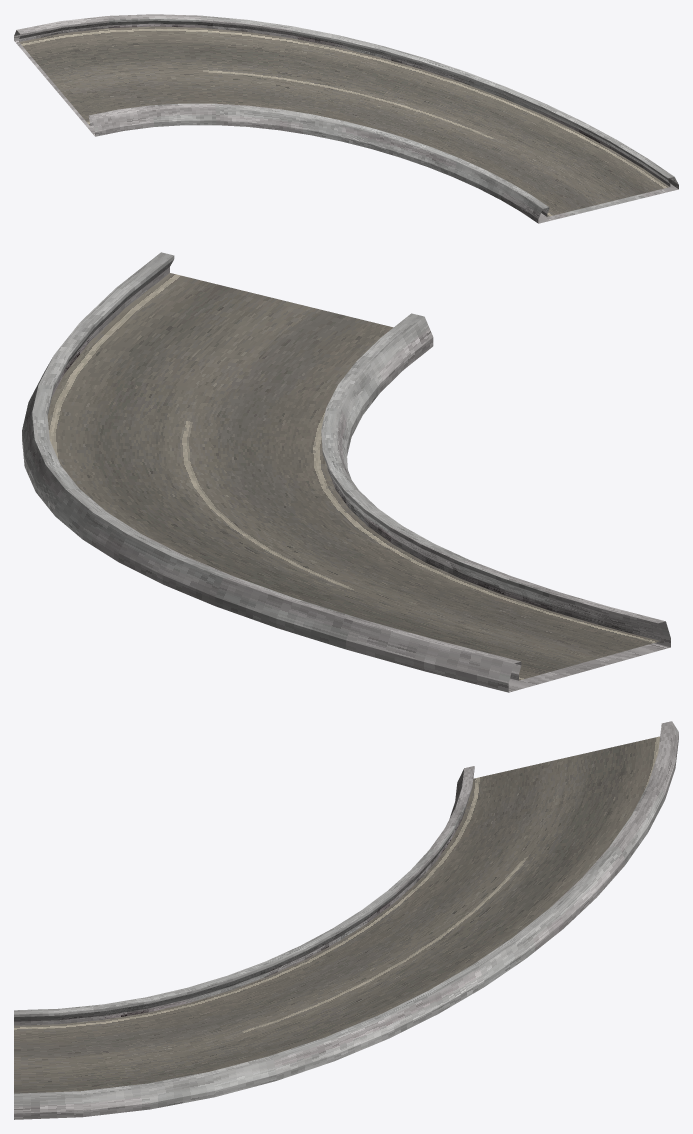
Rendered from road-Turn-Flat-HalfBankedLeft-Up1-Left-Size3.glb.
3 renders of one model, top to bottom at view 1: azimuth 30°, elevation 25°; view 2: azimuth 150°, elevation 25°; view 3: azimuth 270°, elevation 25°, orthographic. The views are drawn at different scales.
Visible parts, largest first — view 1: road-Turn-Flat-HalfBankedLeft-Up1-Left-Size3; view 2: road-Turn-Flat-HalfBankedLeft-Up1-Left-Size3; view 3: road-Turn-Flat-HalfBankedLeft-Up1-Left-Size3.
Part boxes in pixels (bbox=[...]): road-Turn-Flat-HalfBankedLeft-Up1-Left-Size3: bbox=[14, 14, 678, 223]; road-Turn-Flat-HalfBankedLeft-Up1-Left-Size3: bbox=[22, 252, 670, 692]; road-Turn-Flat-HalfBankedLeft-Up1-Left-Size3: bbox=[14, 721, 678, 1119].
Size of the model in its own units: 3 by 0.5859 by 3.
2 materials, 2 textured.
